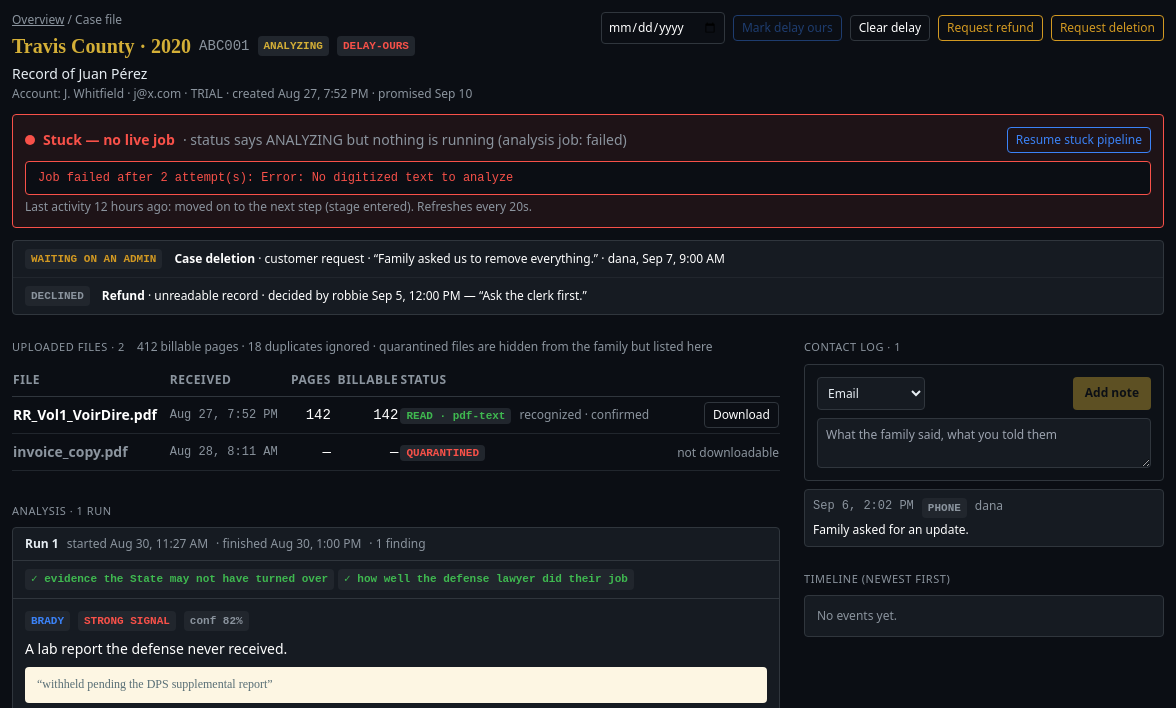
case file — live pipeline card (2026-09-09) › running but dead: red "Stuck — no live job", and Resume reports its result inside the card
Expected: the element with test id "pipeline-card" shows "Stuck — no live job", [43,130,175,149]
Expected: the text with test id "pipeline-last" shows "12 hours ago", [94,198,168,215]
Click the button with test id "resume-pipeline" at (1079, 140), box [1007,127,1151,153]
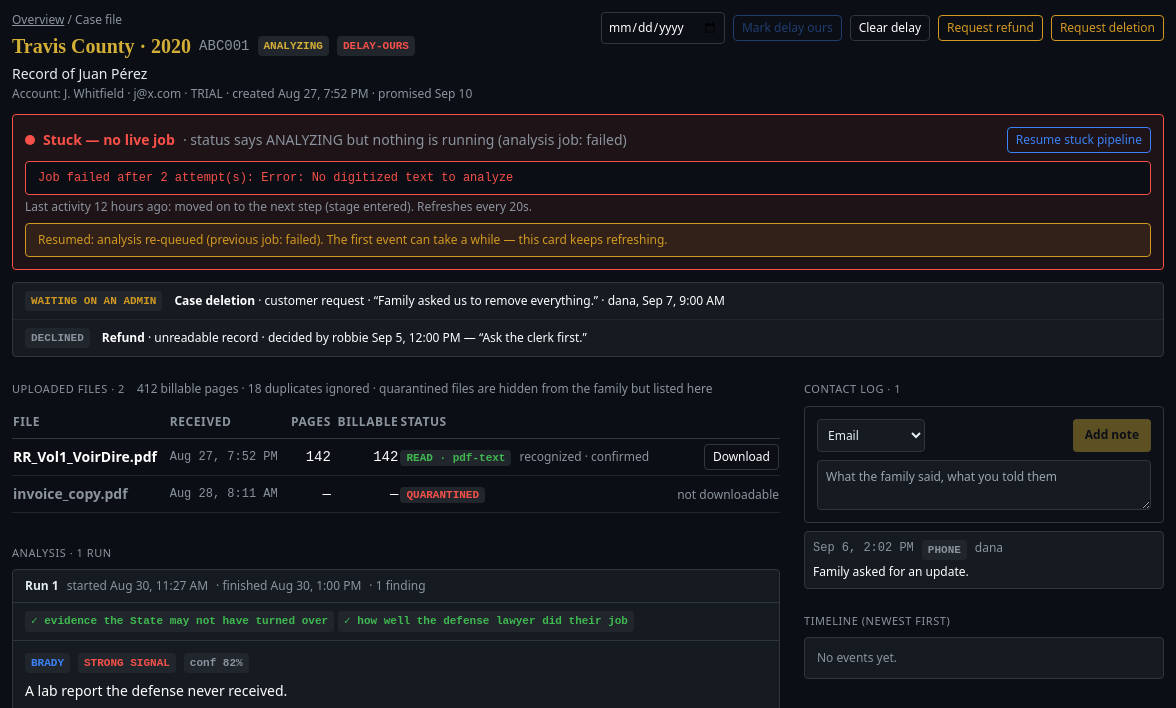
Expected: the message with test id "resume-result" shows "analysis re-queued (previous job: failed)", [38,231,668,248]
